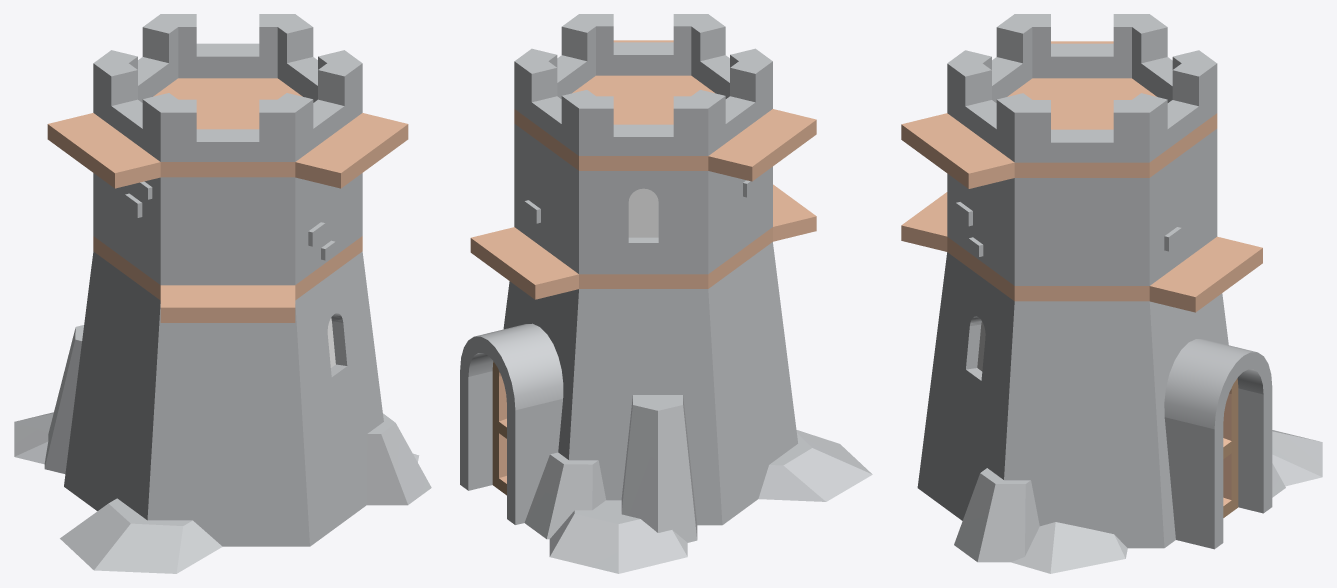
File: MedievalTower.glb
3 views of the same model, side by side, from view 1: azimuth 30°, elevation 25°; view 2: azimuth 150°, elevation 25°; view 3: azimuth 270°, elevation 25° (orthographic). The views are drawn at different scales.
Parts seen in each view (by area): view 1: tower; view 2: tower; view 3: tower.
Part boxes in pixels (x1,y1,x2,y2): tower: (14,14,431,573); tower: (460,14,872,573); tower: (901,14,1322,573).
Size of the model in its own units: 2.06 by 2.31 by 2.07.
